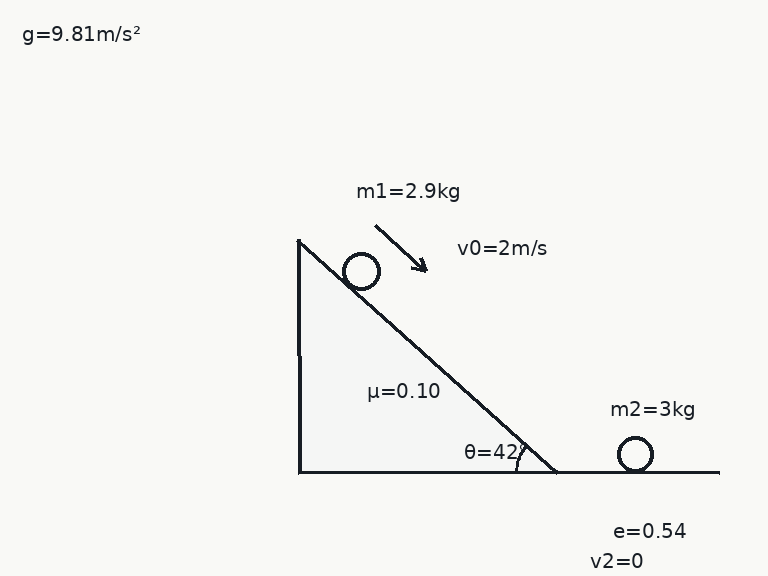ball: (340, 250, 382, 292), (615, 434, 655, 474)
ramp: (296, 238, 558, 474)
